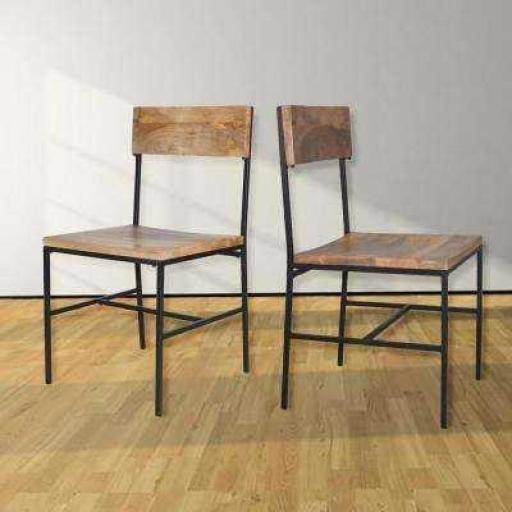chair: (272, 98, 492, 432), (36, 98, 256, 423)
